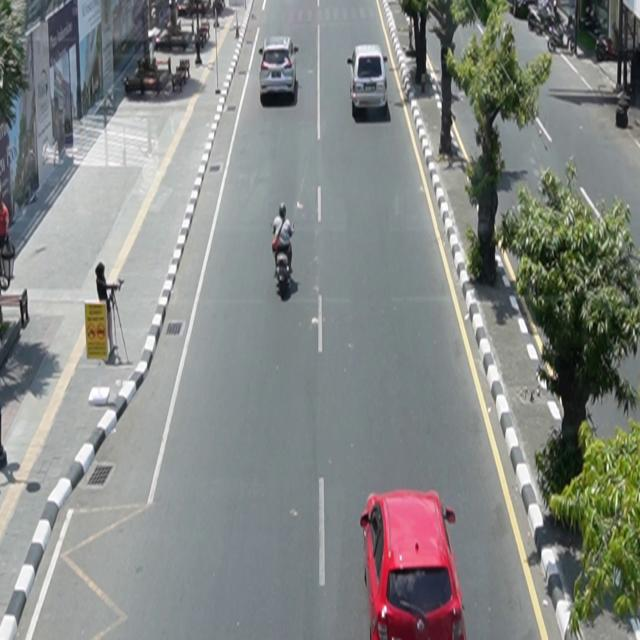car: (361, 490, 468, 640), (348, 44, 389, 114), (260, 35, 300, 99)
